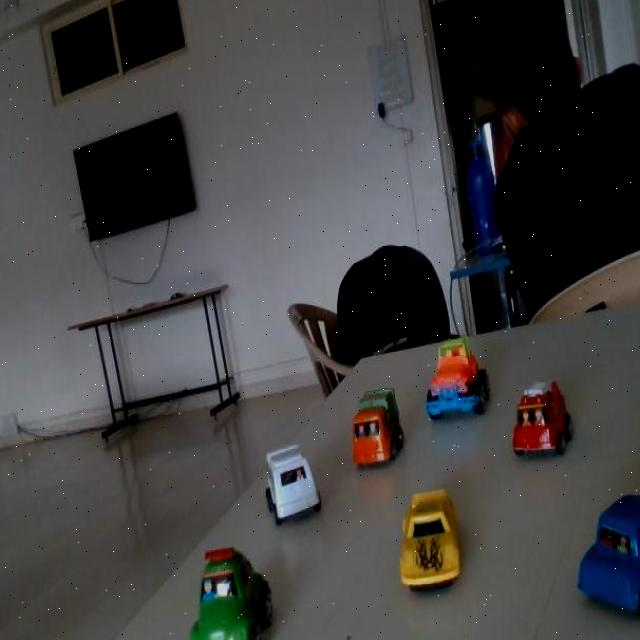car: (122, 508, 310, 640), (344, 477, 500, 619), (230, 420, 336, 550), (420, 323, 503, 426), (339, 367, 408, 488), (573, 497, 640, 616), (502, 378, 566, 472), (628, 403, 640, 484)
